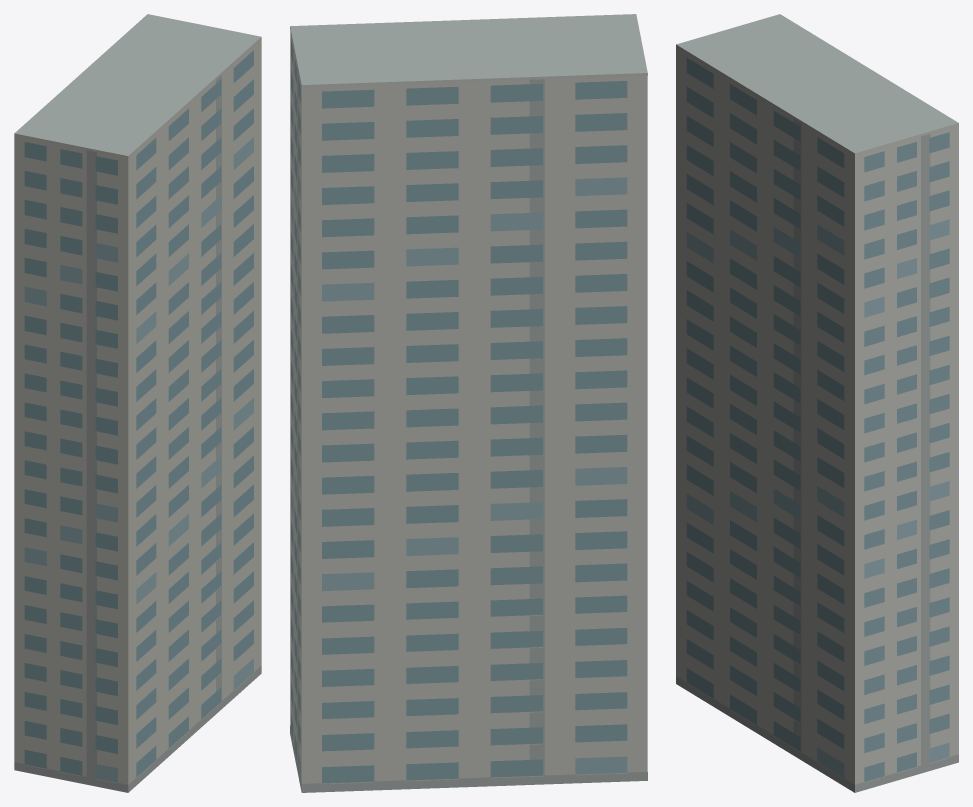
The model's file is residential-edc66c78-ca72-45c7-a52c-7dcbeacb8b69.glb.
3 renders of one model, left to right at view 1: azimuth 30°, elevation 25°; view 2: azimuth 150°, elevation 25°; view 3: azimuth 270°, elevation 25°, orthographic. The views are drawn at different scales.
Parts seen in each view (by area): view 1: residential-edc66c78-ca72-45c7-a52c-7dcbeacb8b69.tmp; view 2: residential-edc66c78-ca72-45c7-a52c-7dcbeacb8b69.tmp; view 3: residential-edc66c78-ca72-45c7-a52c-7dcbeacb8b69.tmp.
Boxes of the visible parts, left/top/right/bottom form: residential-edc66c78-ca72-45c7-a52c-7dcbeacb8b69.tmp: left=14, top=14, right=261, bottom=792; residential-edc66c78-ca72-45c7-a52c-7dcbeacb8b69.tmp: left=290, top=14, right=647, bottom=792; residential-edc66c78-ca72-45c7-a52c-7dcbeacb8b69.tmp: left=676, top=14, right=958, bottom=792.
Bounding box in the file's own units: 29.47 × 63 × 25.26.
